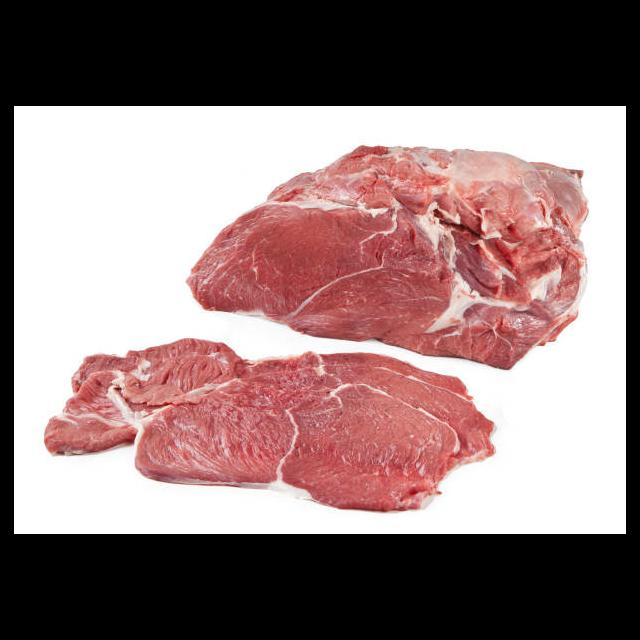beef: (186, 144, 589, 372), (41, 335, 498, 513)
